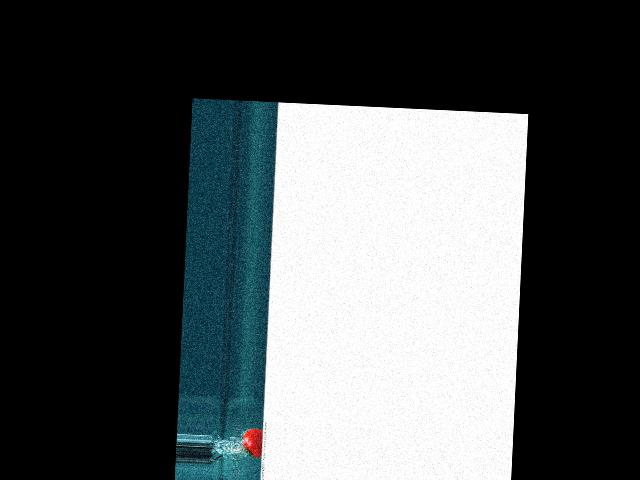tomato: (242, 428, 263, 458)
